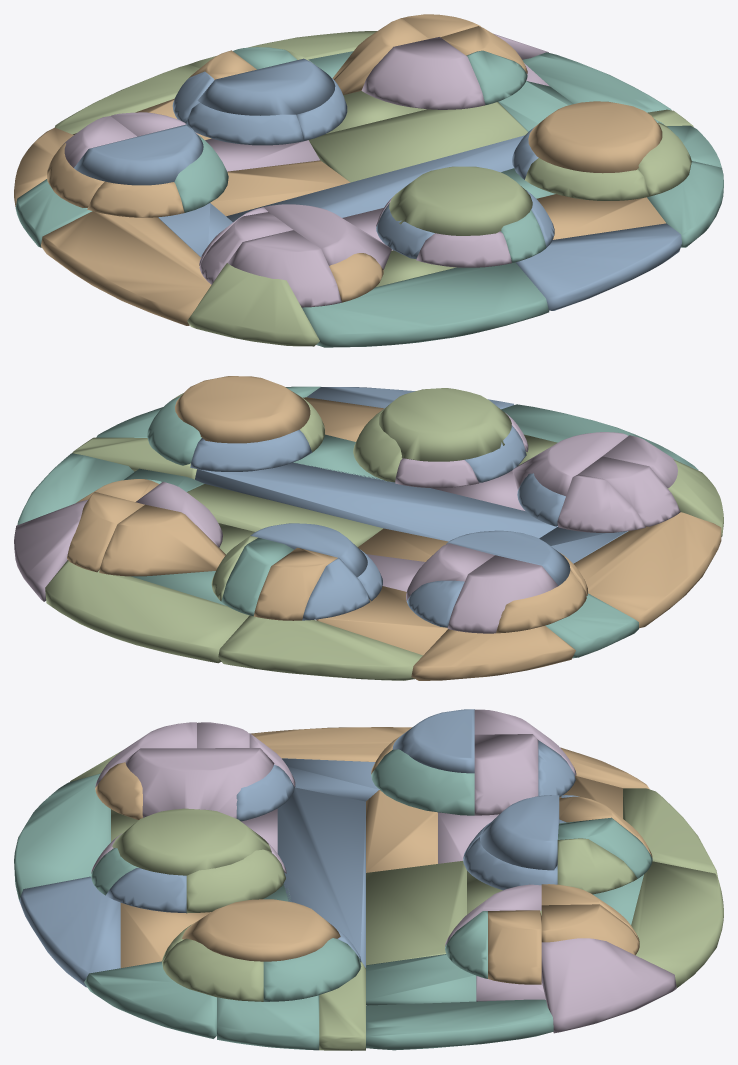
The picture shows the model from 3 angles, top to bottom: view 1: azimuth 30°, elevation 25°; view 2: azimuth 150°, elevation 25°; view 3: azimuth 270°, elevation 25°; orthographic projection. The views are drawn at different scales.
Size of the model in its own units: 1.9 by 0.202 by 1.84.
